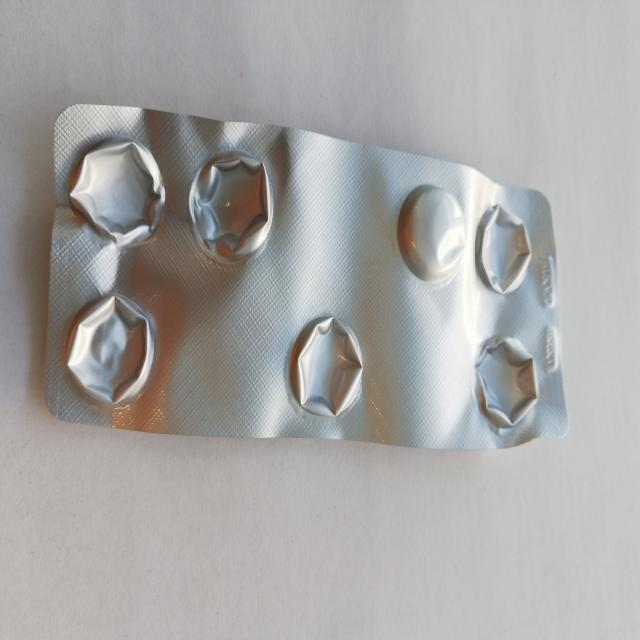Empty: (55, 287, 158, 411), (66, 128, 172, 248), (186, 135, 279, 267), (286, 302, 370, 418), (465, 328, 547, 437), (476, 194, 536, 304)
Pill: (390, 172, 470, 282)
